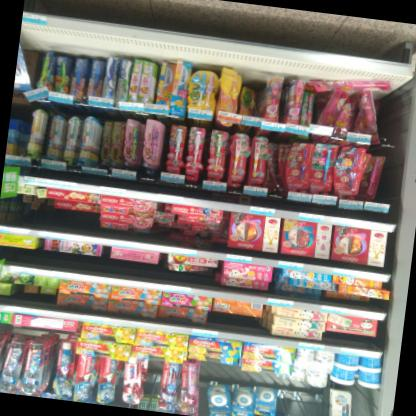empty_space: (278, 378, 325, 416), (380, 90, 401, 149), (142, 358, 162, 411)
